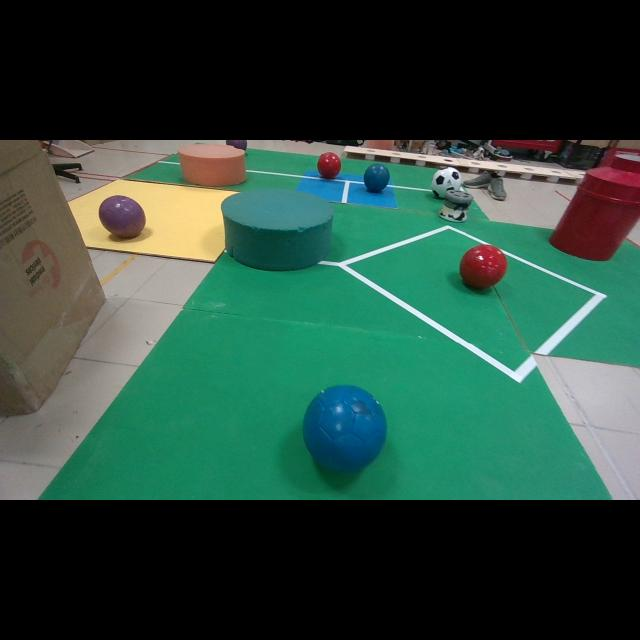B: (302, 385, 386, 472), (364, 164, 390, 192)
P: (99, 195, 146, 238)
R: (460, 245, 508, 289), (318, 152, 341, 179)
